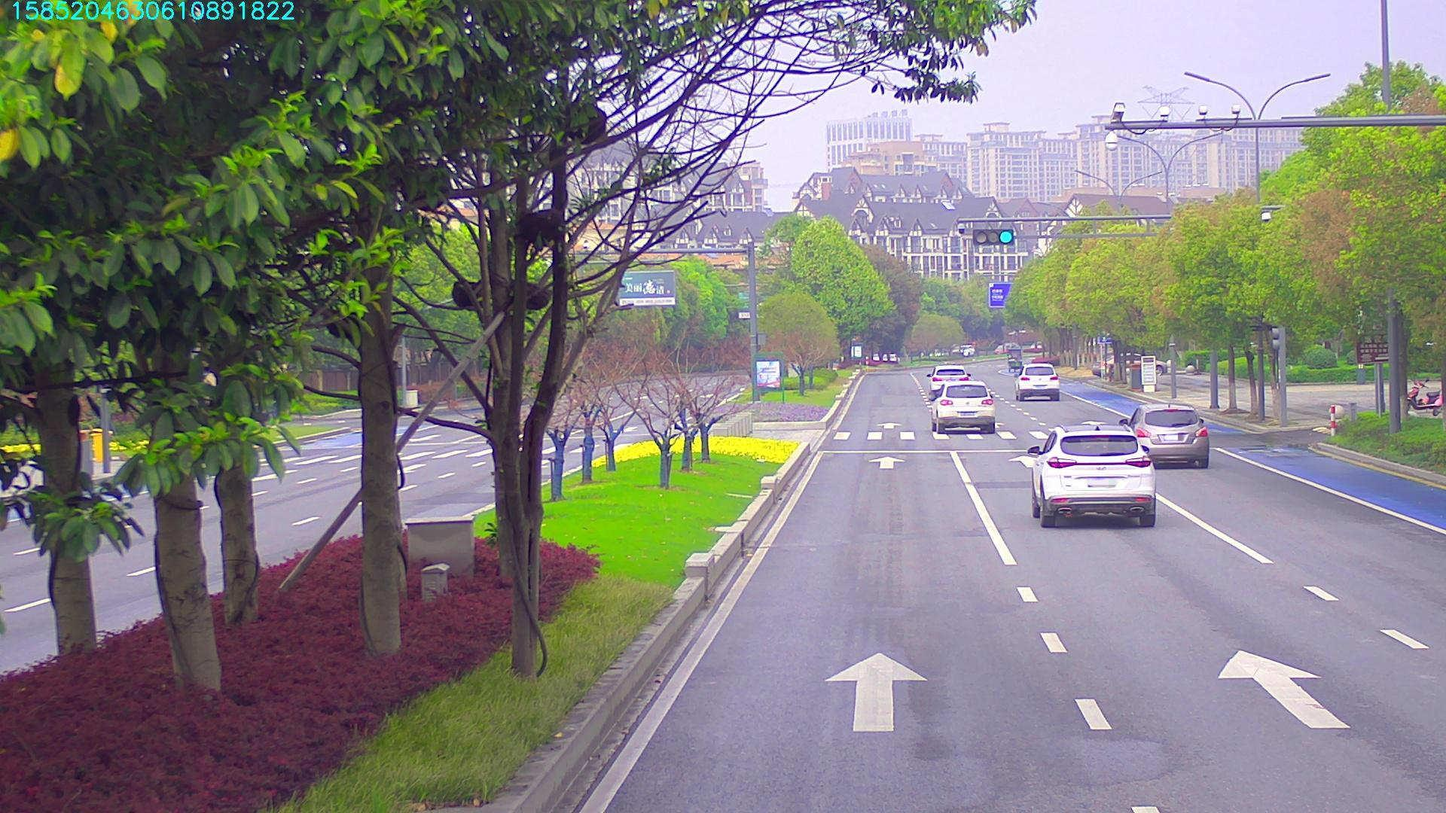green: (977, 230, 1016, 245)
